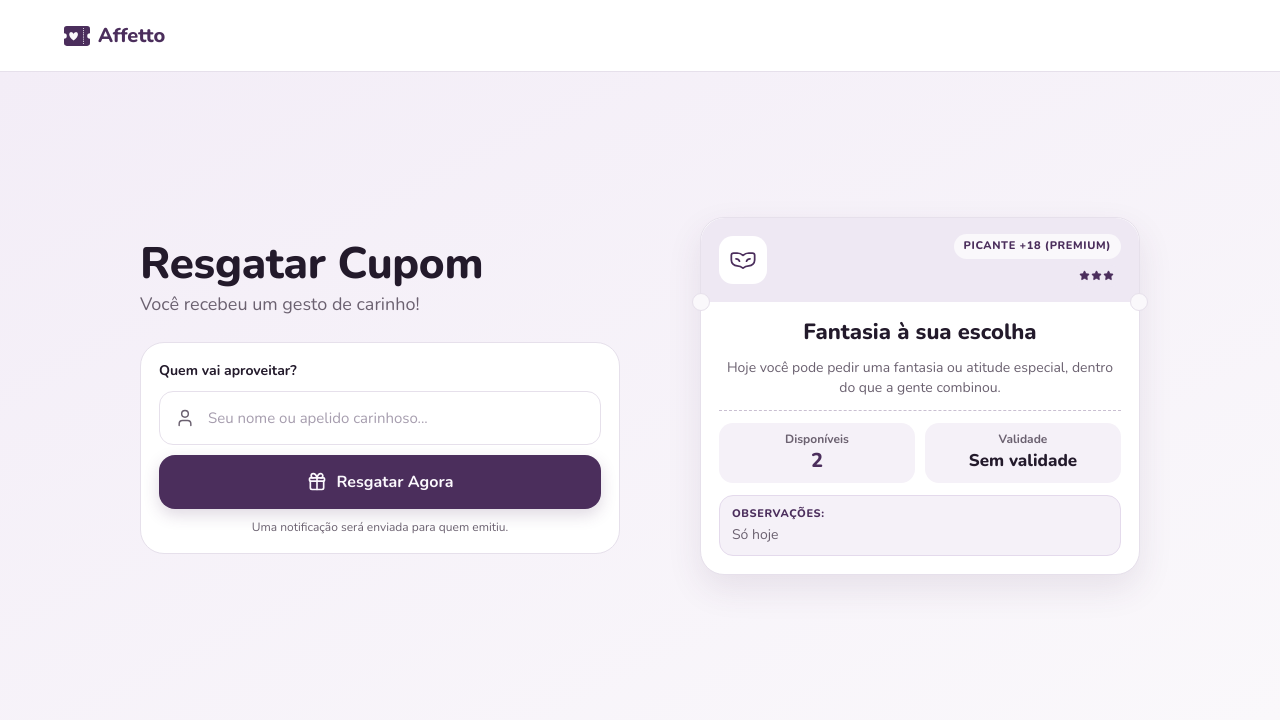
RedeemPage › shows an Android coming-soon notice and does not open a store
The width and height of the screenshot is (1280, 720).
In the field labelled "Quem vai aproveitar?": x=380, y=418 [159, 391, 601, 445], type "Ana"
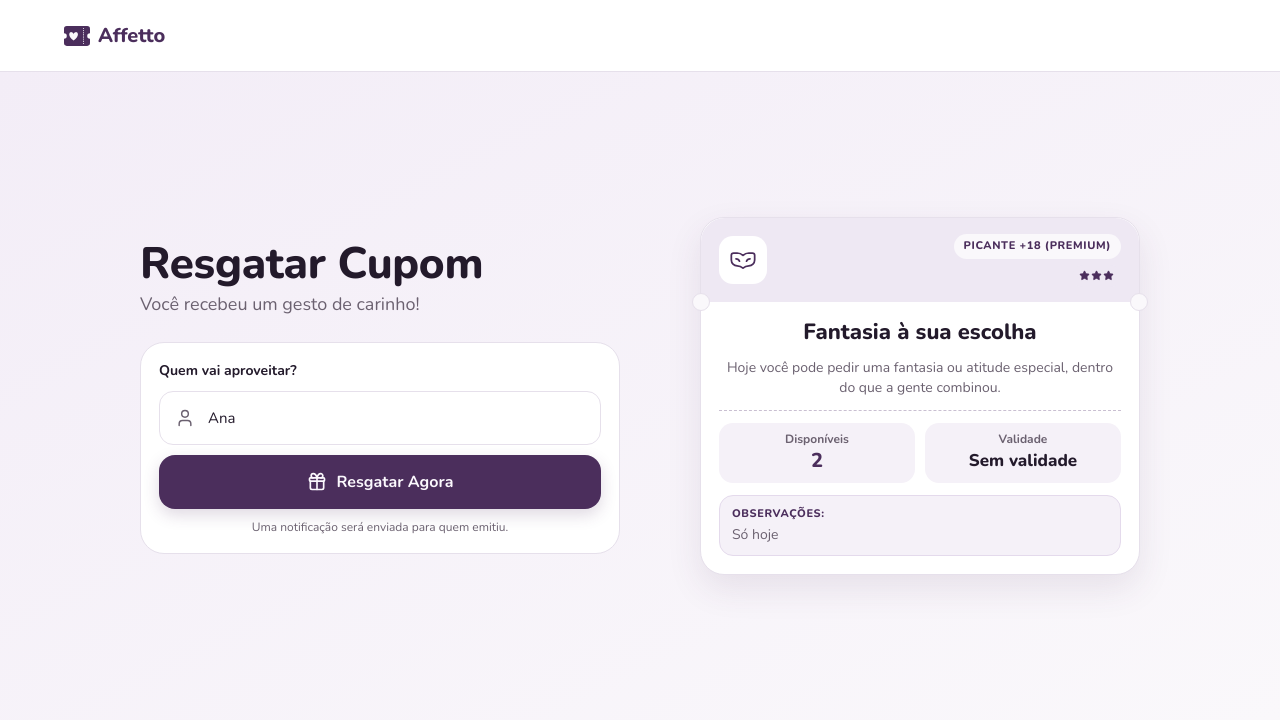
Click the button "Resgatar Agora": x=380, y=482 [159, 455, 601, 509]
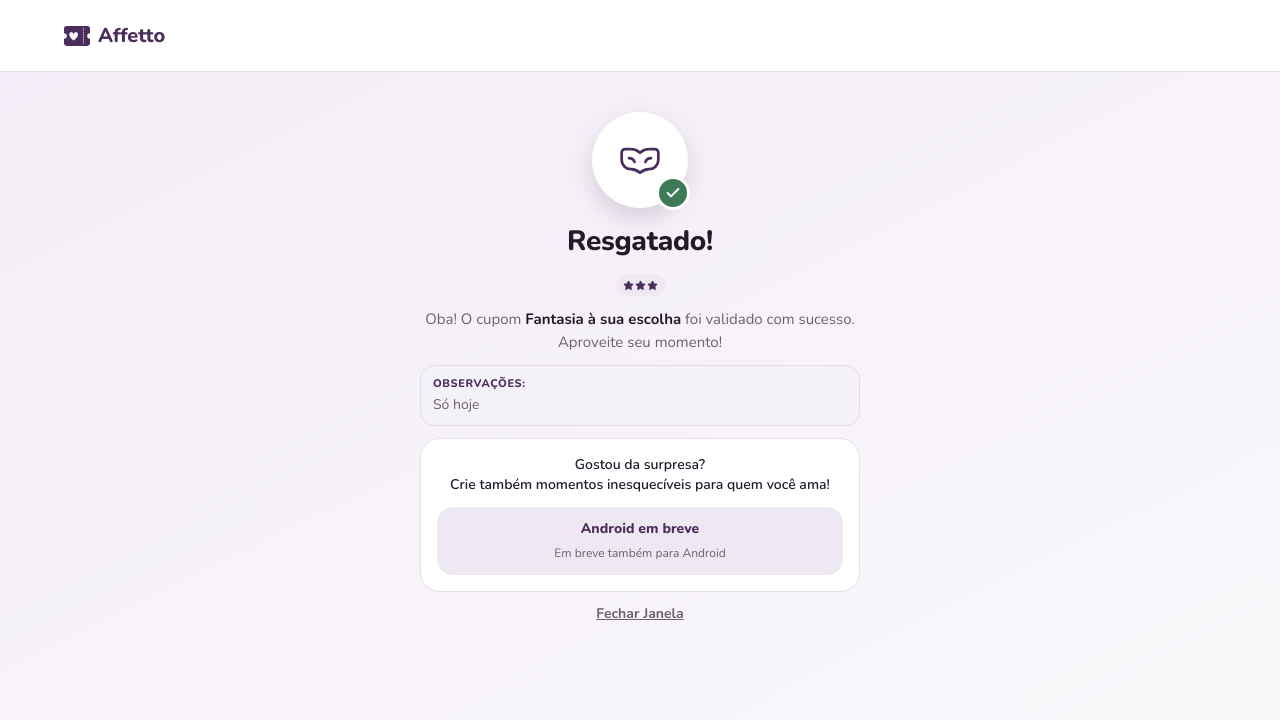
Result: the heading "Resgatado!" is shown at [567, 220, 713, 262]
Result: the text "Android em breve" is shown at [581, 518, 699, 538]
Result: the text "Em breve também para Android" is shown at [554, 544, 726, 560]
